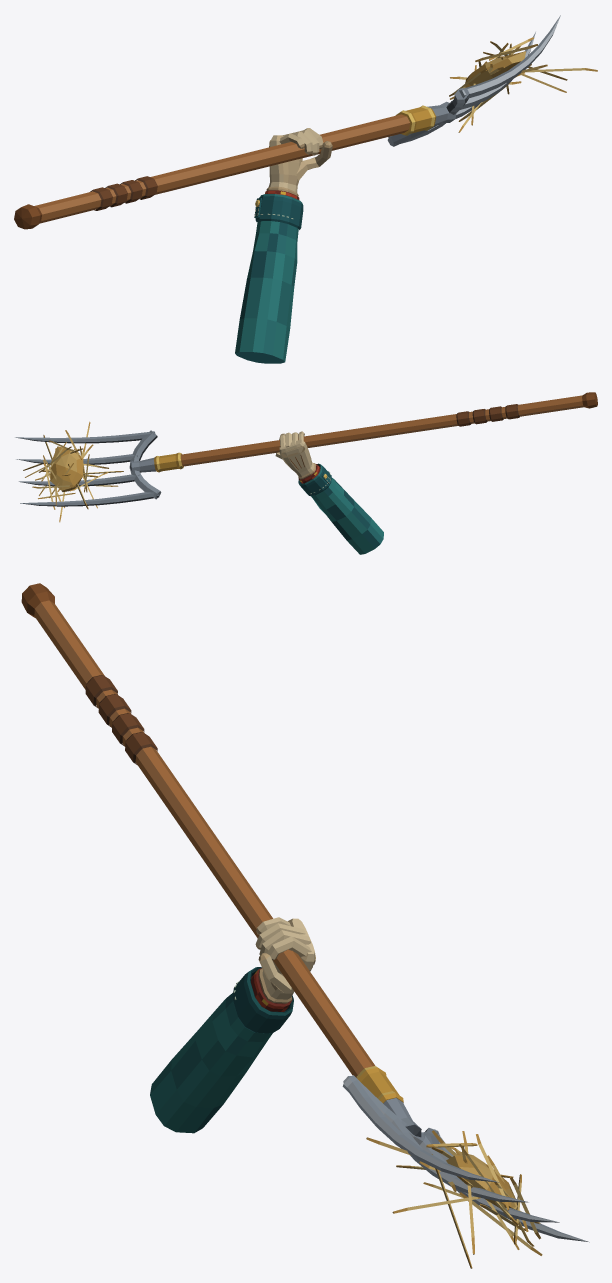
Rendered from fp_pitchfork.glb.
The picture shows the model from 3 angles, top to bottom: view 1: azimuth 30°, elevation 25°; view 2: azimuth 150°, elevation 25°; view 3: azimuth 270°, elevation 25°; orthographic projection. The views are drawn at different scales.
Visible parts, largest first — view 1: tool, arm, clump, hand; view 2: tool, arm, clump, hand; view 3: tool, arm, clump, hand.
Boxes of the visible parts, <box> form: tool: <box>14,15,560,229</box>; arm: <box>235,190,303,363</box>; clump: <box>449,37,597,132</box>; hand: <box>266,128,332,196</box>; tool: <box>15,392,597,506</box>; arm: <box>298,463,383,554</box>; clump: <box>23,421,123,522</box>; hand: <box>275,431,316,479</box>; tool: <box>21,583,589,1242</box>; arm: <box>150,967,293,1133</box>; clump: <box>366,1130,542,1268</box>; hand: <box>255,917,315,1003</box>.
Size of the model in its own units: 1.68 by 0.6104 by 0.8821.
